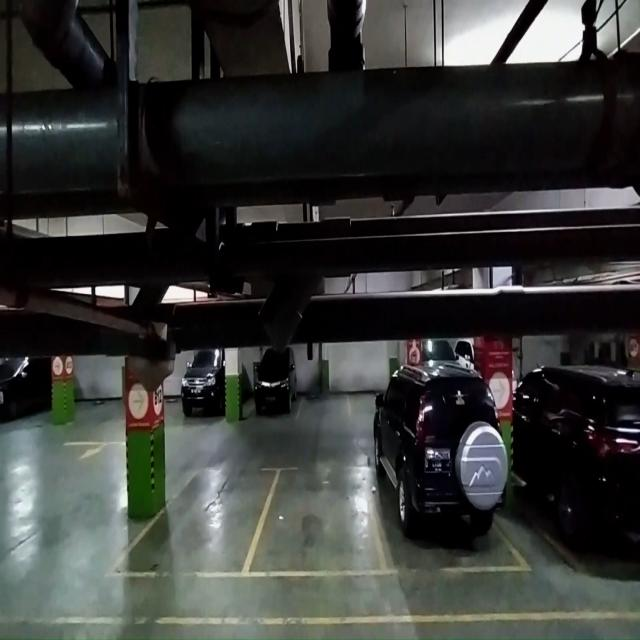empty: (168, 466, 276, 576), (276, 466, 378, 578)
occupied: (374, 421, 511, 572)
